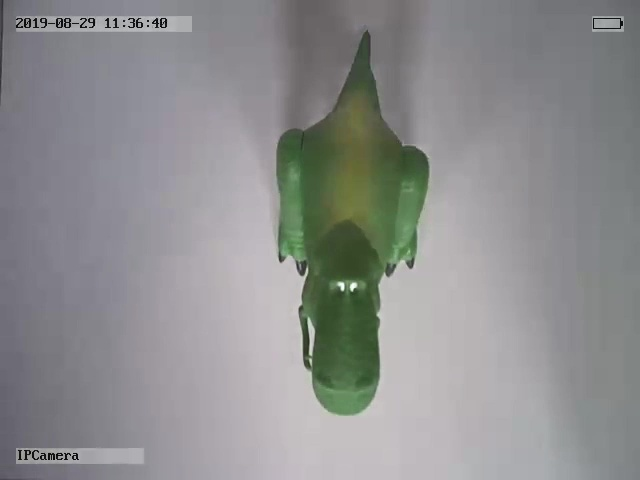rex: (273, 29, 431, 419)
